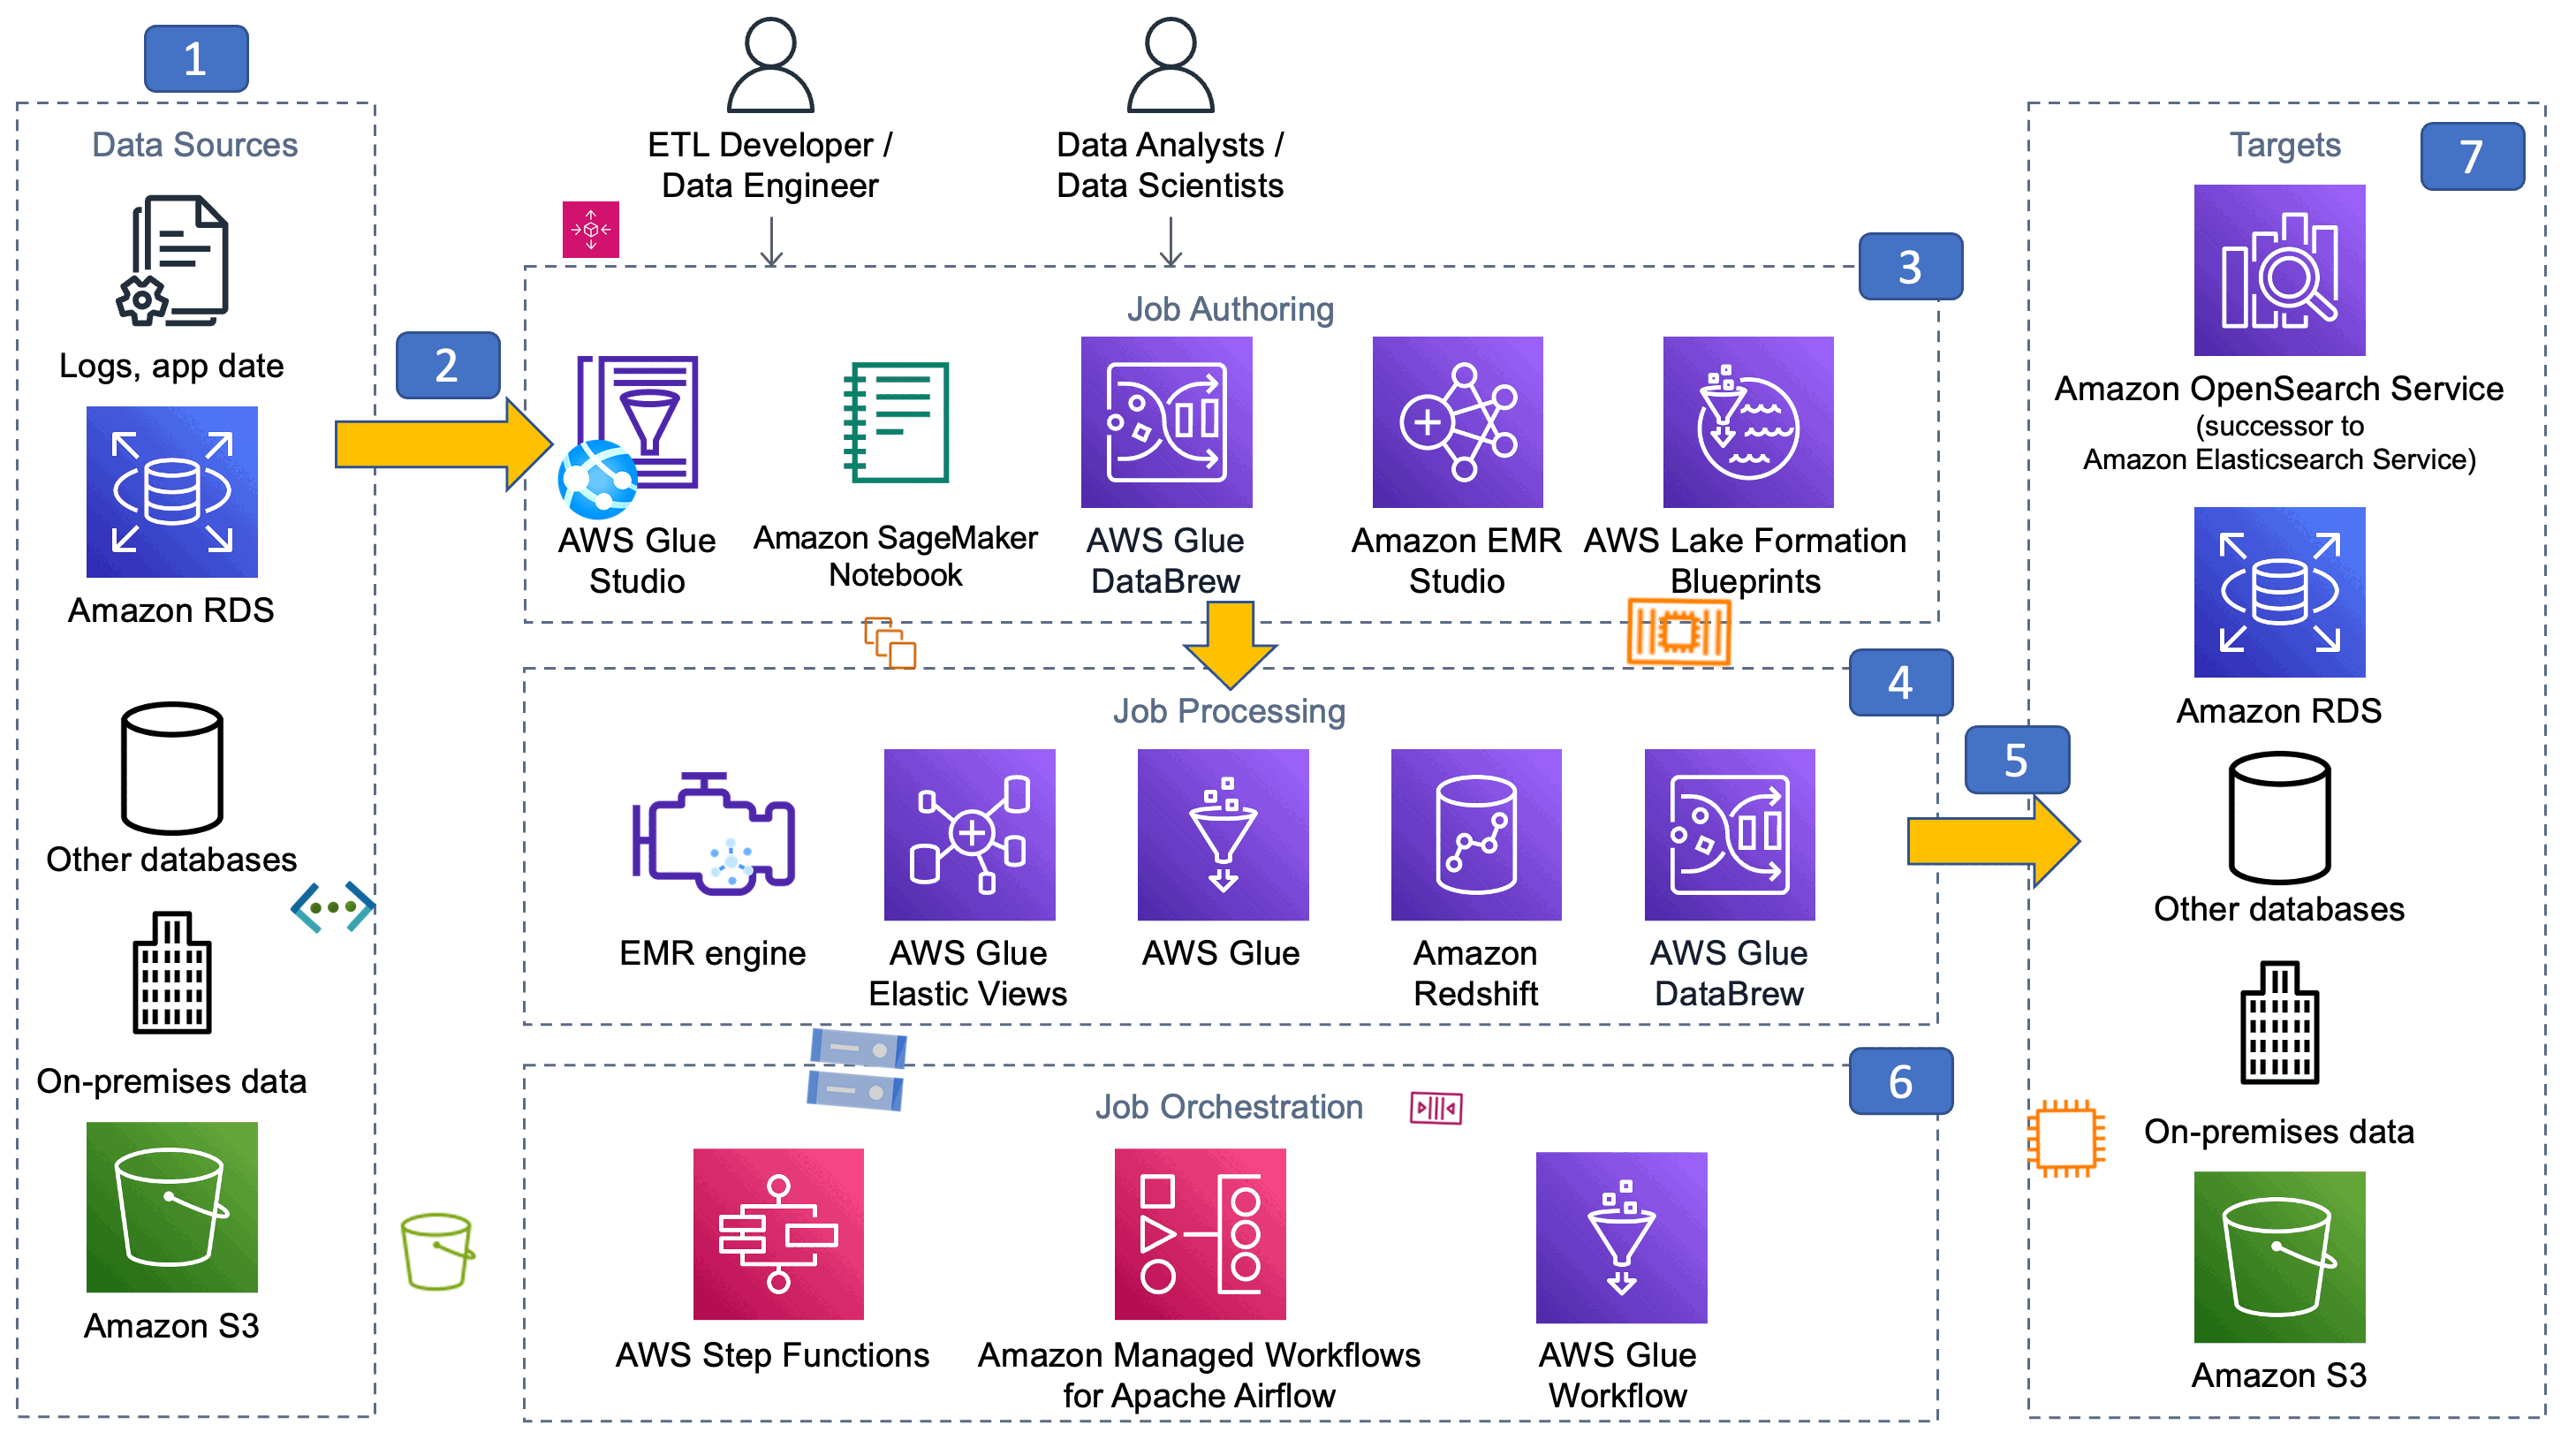aws_auto_scaling: (563, 200, 621, 258)
aws_ec2_instance: (2022, 1095, 2109, 1182)
aws_ec2_instances: (862, 614, 920, 672)
aws_elastic_container_service_container_2: (1621, 573, 1737, 690)
aws_simple_queue_service_queue: (1407, 1077, 1467, 1137)
aws_simple_storage_service_s3_standard: (395, 1208, 481, 1295)
azure_app_services: (556, 437, 642, 524)
azure_virtual_networks: (288, 862, 379, 952)
gcp_cloud_storage: (794, 1008, 918, 1132)
gcp_pubsub: (701, 831, 761, 892)
